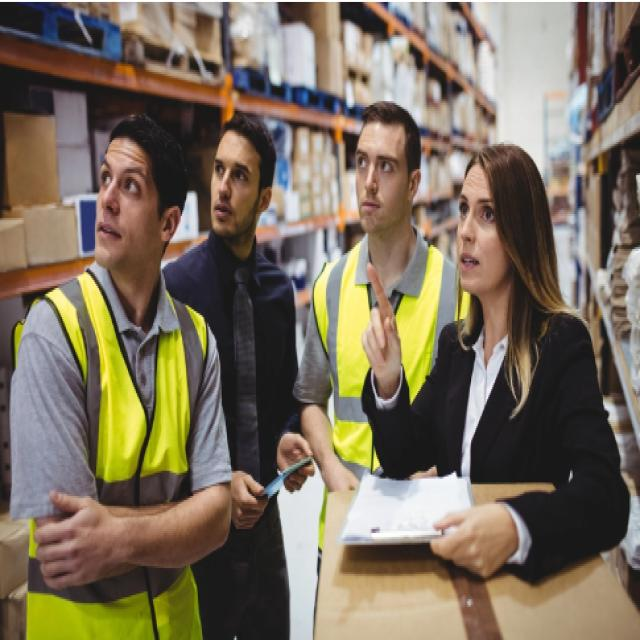vest: (7, 261, 212, 640), (308, 232, 480, 558)
